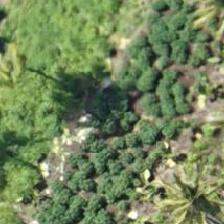coconut_tree: (149, 159, 223, 223)
